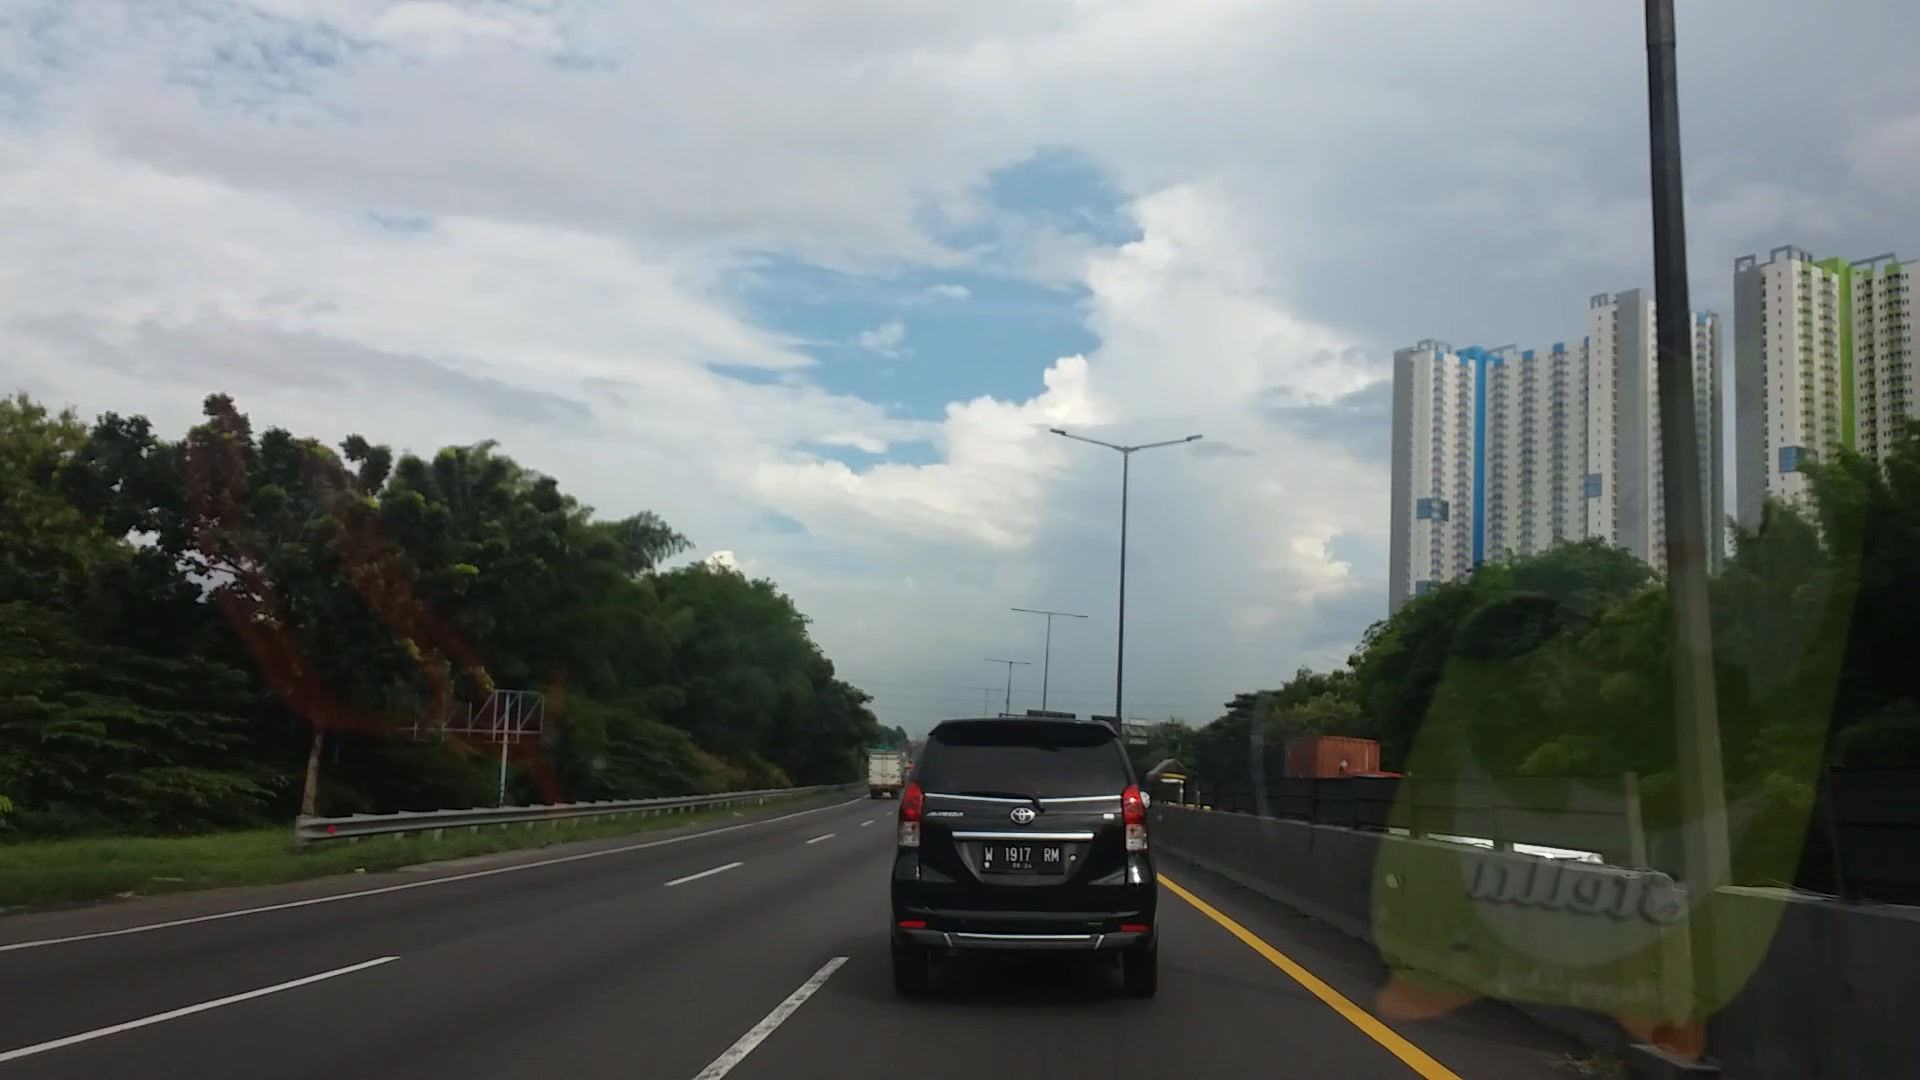plate_positive: (981, 843, 1062, 872)
